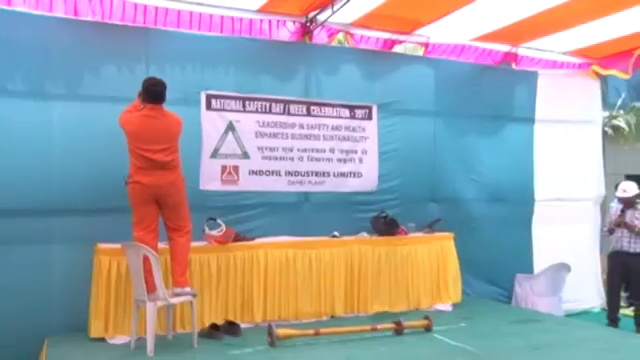helmet: (614, 179, 640, 199)
helmet_off: (135, 76, 166, 110)
helmet_on: (613, 177, 640, 214)
person: (116, 75, 200, 301), (603, 177, 640, 333)
